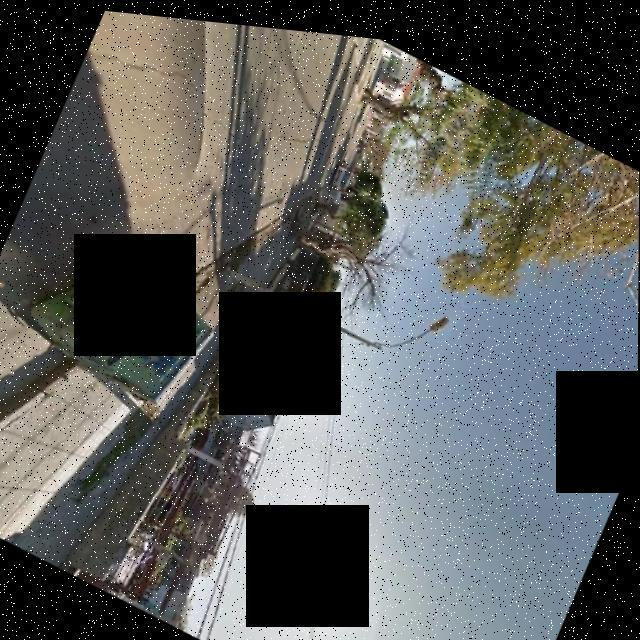bin: (0, 206, 238, 442)
